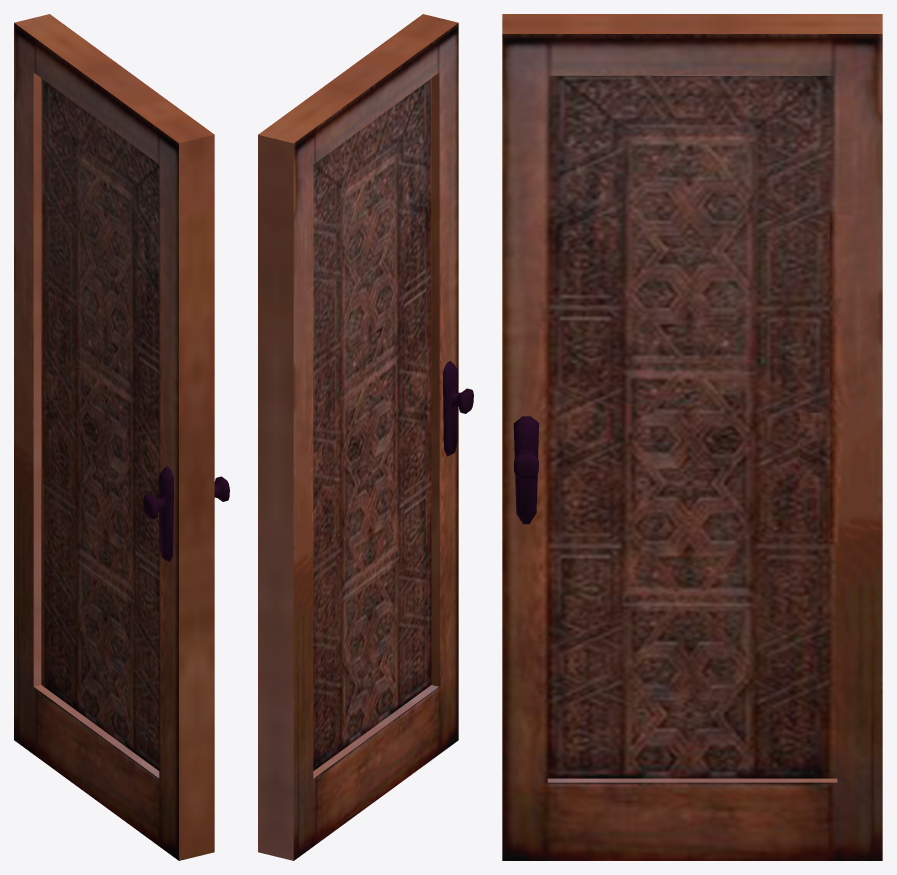
The model's file is Puerta_Normal_Entera.fbx.
3 views of the same model, side by side, from view 1: azimuth 30°, elevation 25°; view 2: azimuth 150°, elevation 25°; view 3: azimuth 270°, elevation 25° (orthographic). The views are drawn at different scales.
Visible parts, largest first — view 1: Door_Base, MangoPuerta; view 2: Door_Base, MangoPuerta; view 3: Door_Base, MangoPuerta.
Boxes of the visible parts, <box> form: Door_Base: <box>14,14,214,860</box>; MangoPuerta: <box>143,466,229,561</box>; Door_Base: <box>258,14,458,860</box>; MangoPuerta: <box>442,361,473,456</box>; Door_Base: <box>502,14,882,860</box>; MangoPuerta: <box>513,416,539,524</box>.
Size of the model in its own units: 27.74 by 240 by 100.
